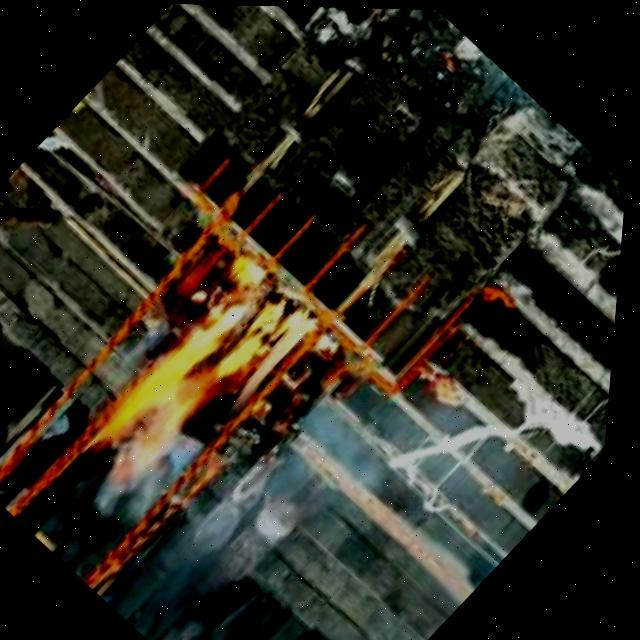Fire: (79, 249, 338, 513)
